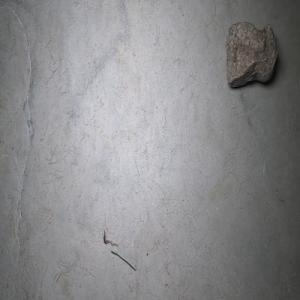Rock: (225, 21, 278, 87)
